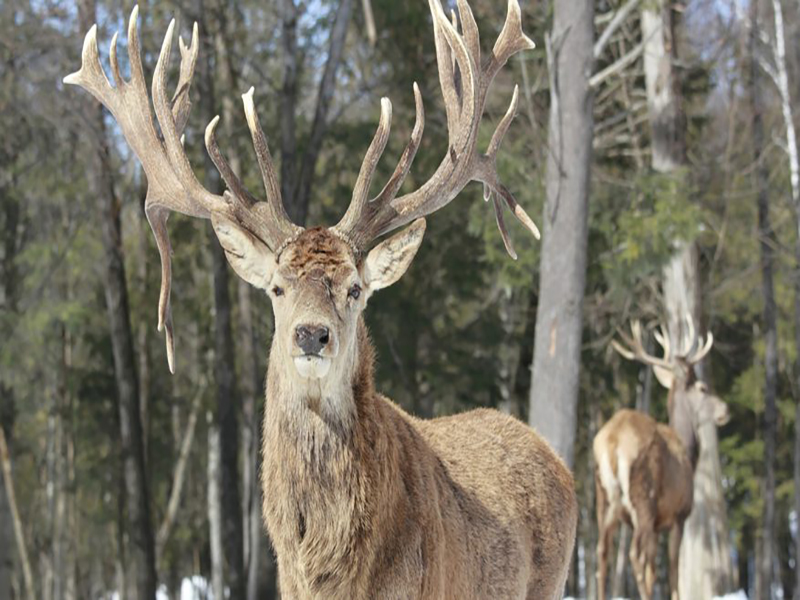cervo: (67, 3, 582, 596), (594, 318, 734, 598)
